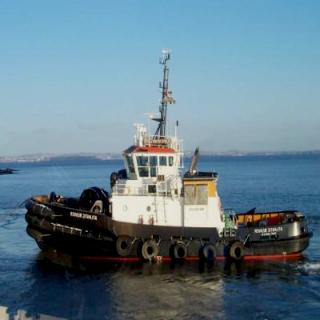Tug Boat: (22, 86, 304, 267)
